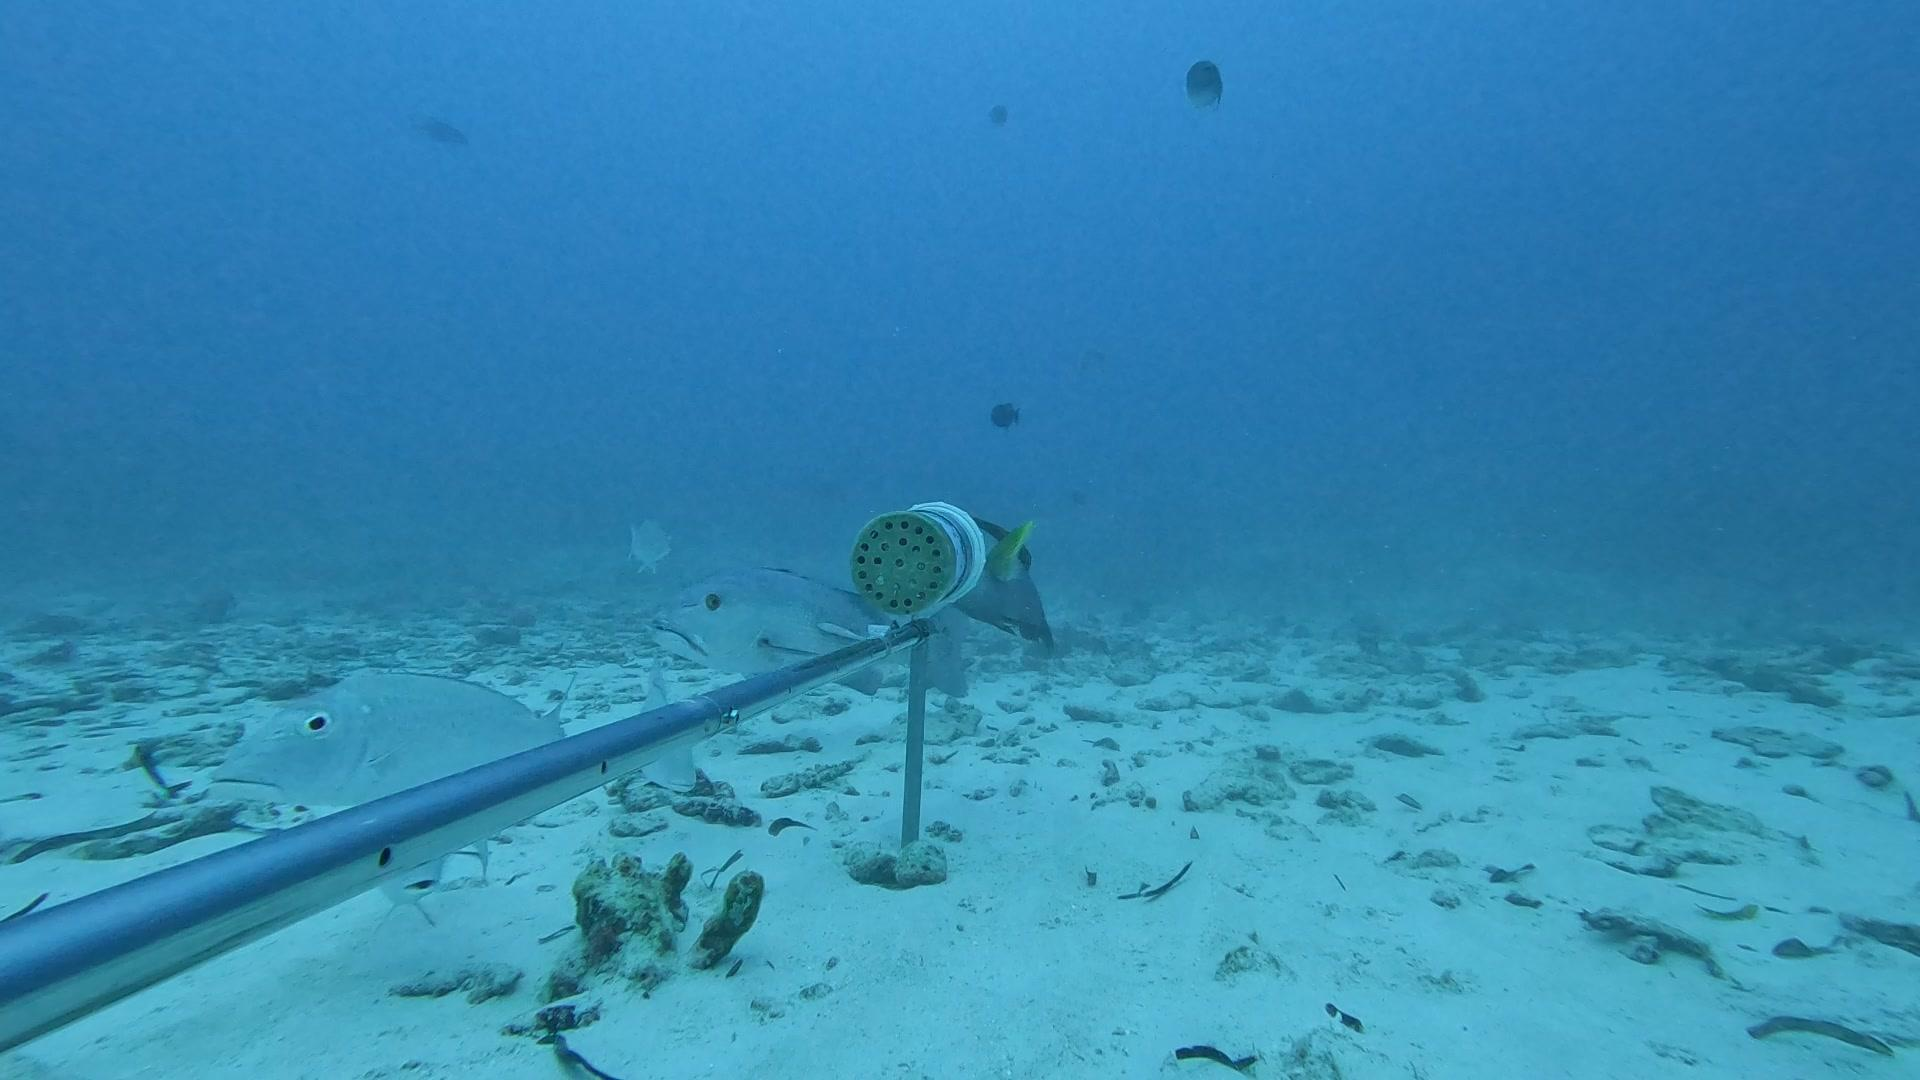fish: (210, 670, 576, 818), (658, 558, 890, 702), (887, 497, 1054, 649), (1167, 46, 1241, 127), (617, 512, 683, 582), (414, 105, 476, 162), (980, 392, 1030, 440)
